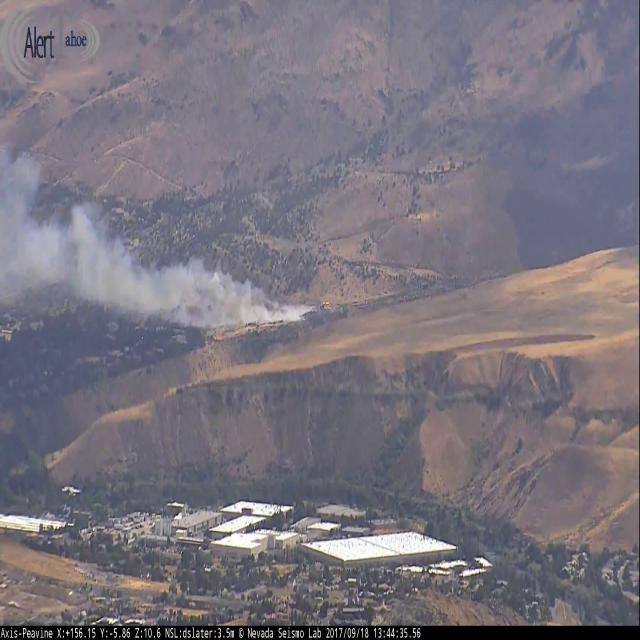smoke: (0, 141, 339, 340)
